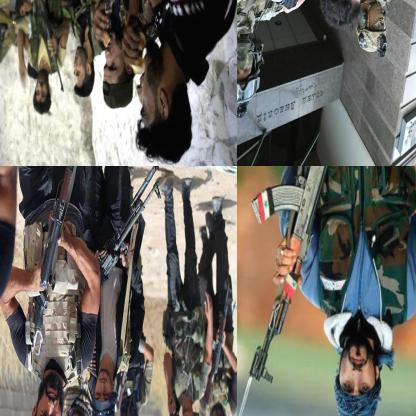rifle: (249, 166, 334, 386), (31, 166, 89, 330), (96, 166, 166, 281), (203, 279, 236, 405), (32, 0, 68, 96), (157, 400, 186, 415)
